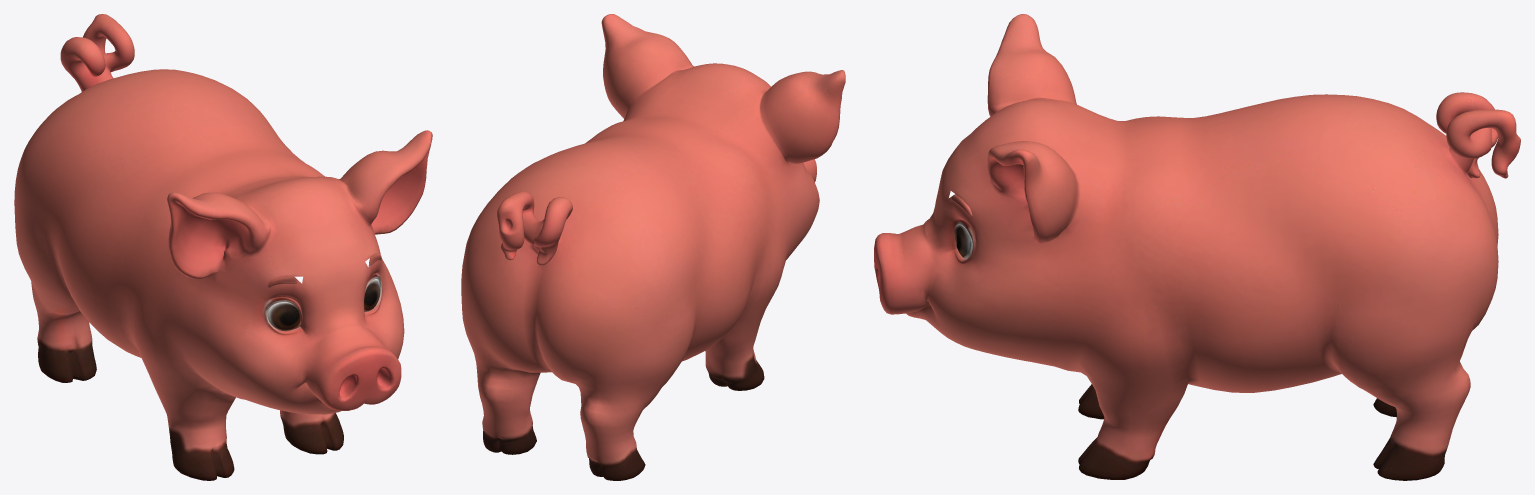
File: pig.glb
3 renders of one model, left to right at view 1: azimuth 30°, elevation 25°; view 2: azimuth 150°, elevation 25°; view 3: azimuth 270°, elevation 25°, orthographic. The views are drawn at different scales.
Visible parts, largest first — view 1: pig; view 2: pig; view 3: pig.
Boxes of the visible parts, x1,y1,x2,y2 form: pig: [14, 14, 432, 480]; pig: [461, 14, 845, 480]; pig: [874, 14, 1520, 480].
Size of the model in its own units: 0.52 by 0.6079 by 0.9995.
1 material, 1 textured.
